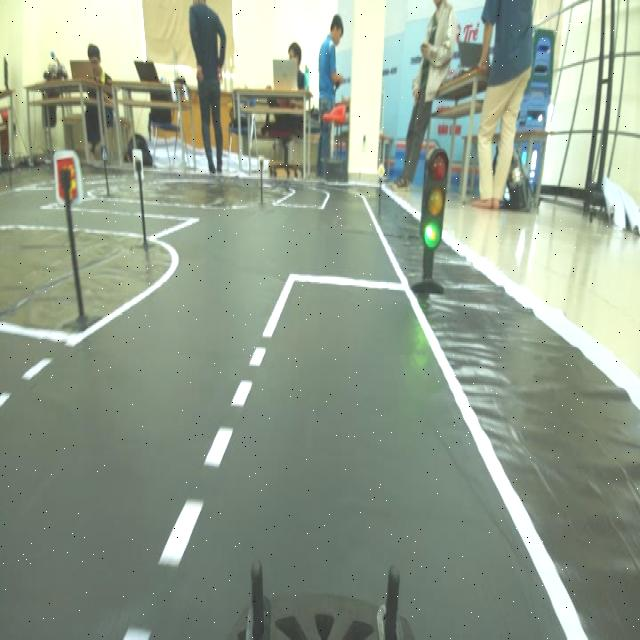trafficlight: (412, 144, 457, 293)
